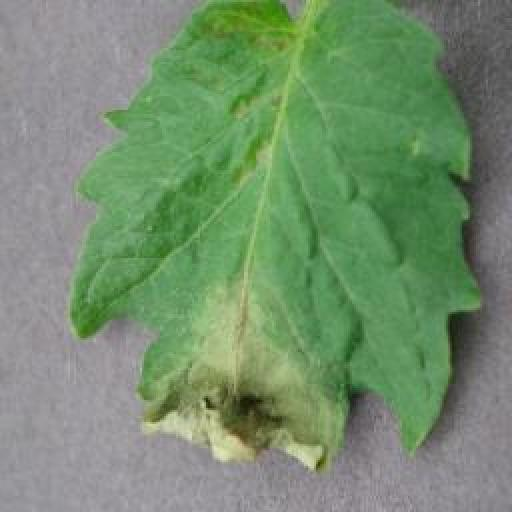Late Blight: (68, 0, 483, 475)
